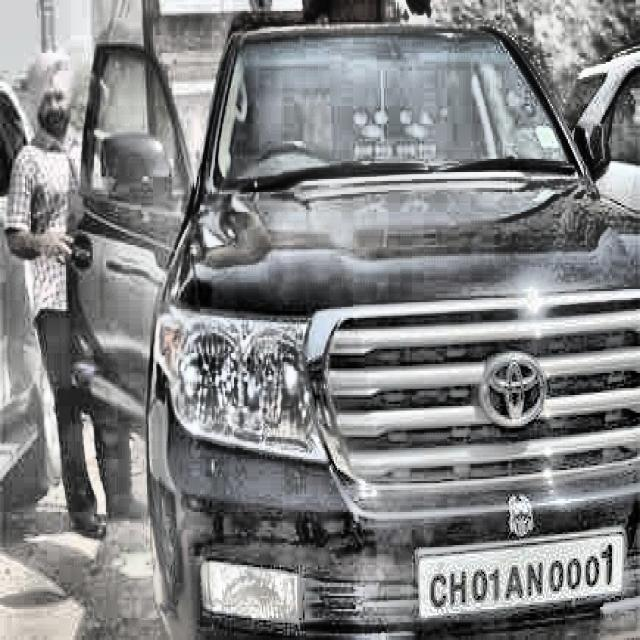license_plate: (424, 536, 623, 613)
